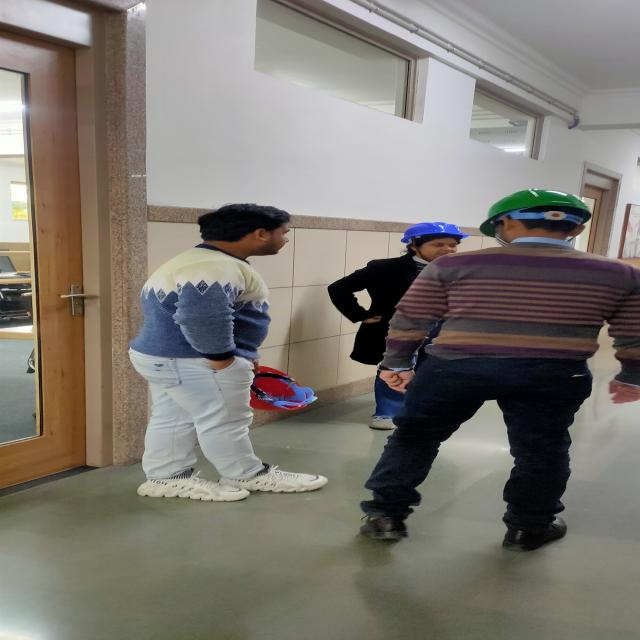no jacket: (366, 188, 634, 550), (327, 221, 468, 430)
unsafe: (130, 204, 332, 501)
